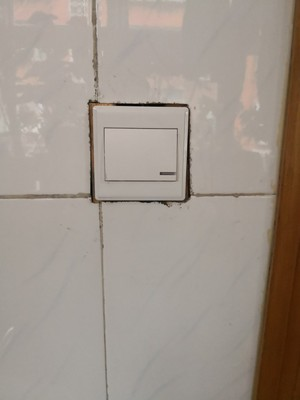switch: (102, 125, 179, 182)
